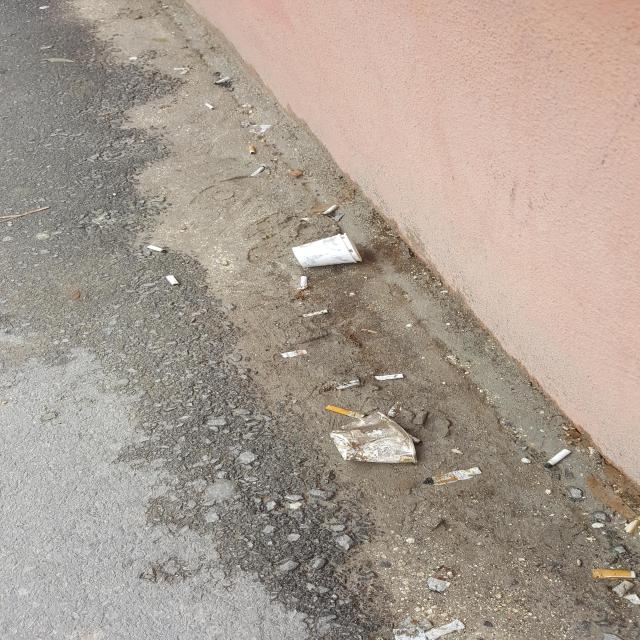less trash: (327, 405, 418, 462), (291, 234, 362, 268)
